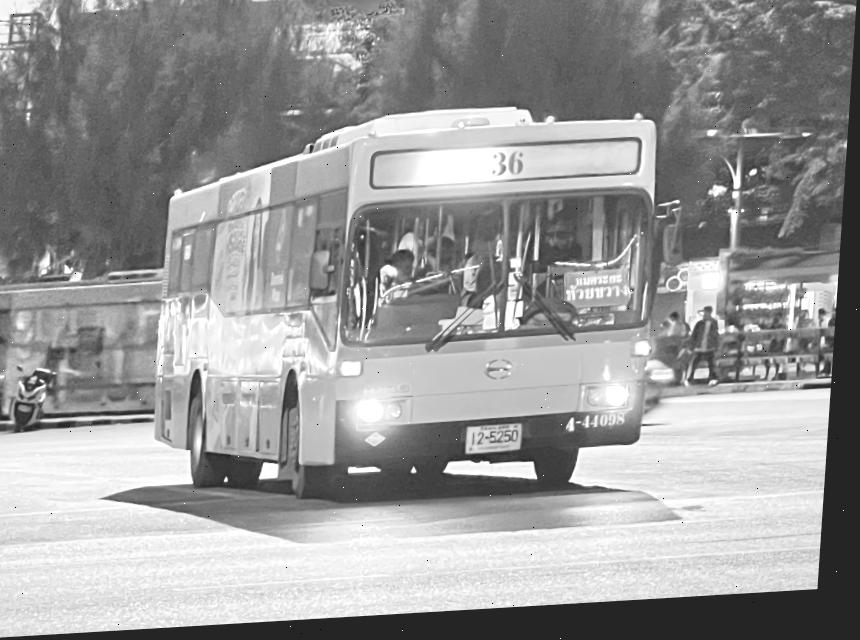BMTA-bus: (158, 115, 670, 508), (0, 273, 166, 433)
Bus Line Number: (486, 151, 532, 188)
Bus Side Number: (566, 419, 637, 441)
Destination Sign: (568, 275, 635, 317)
